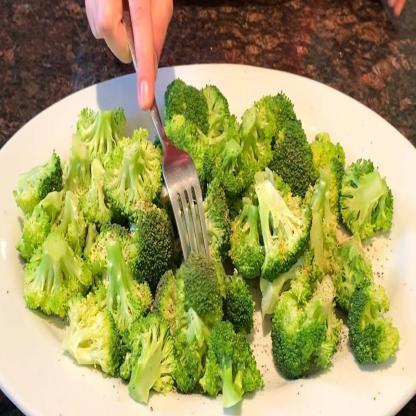broccoli: (12, 78, 402, 411)
